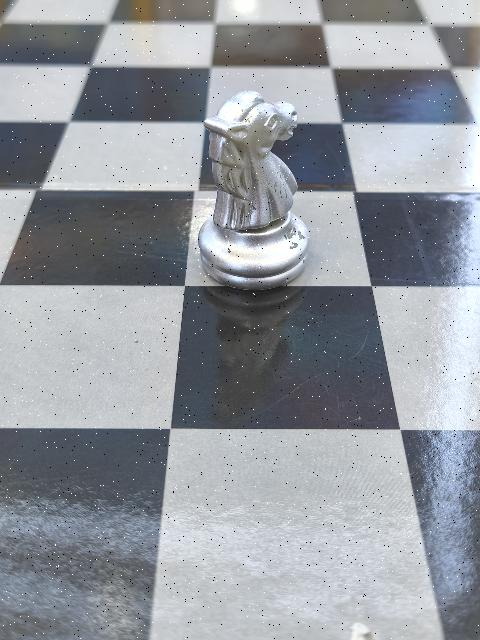white_knight: (200, 91, 311, 291)
